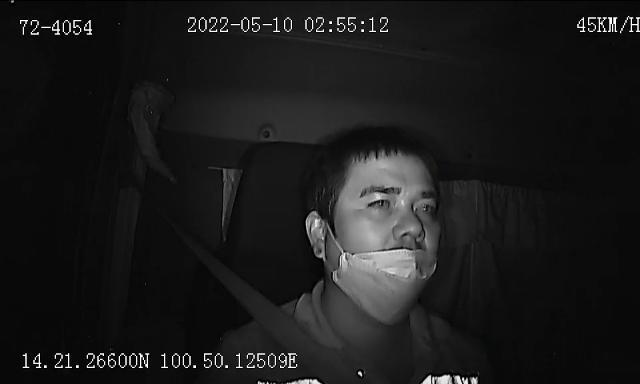SafeDriving: (362, 191, 398, 215), (410, 192, 441, 217)
Seatbelt: (191, 246, 319, 384)
